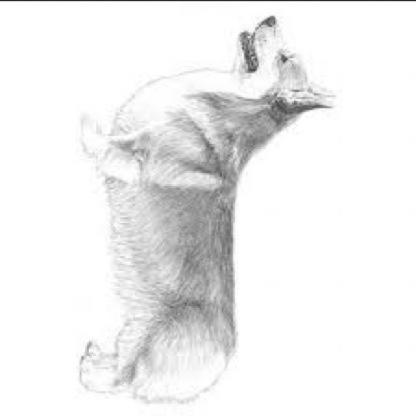dog: (76, 15, 336, 404)
